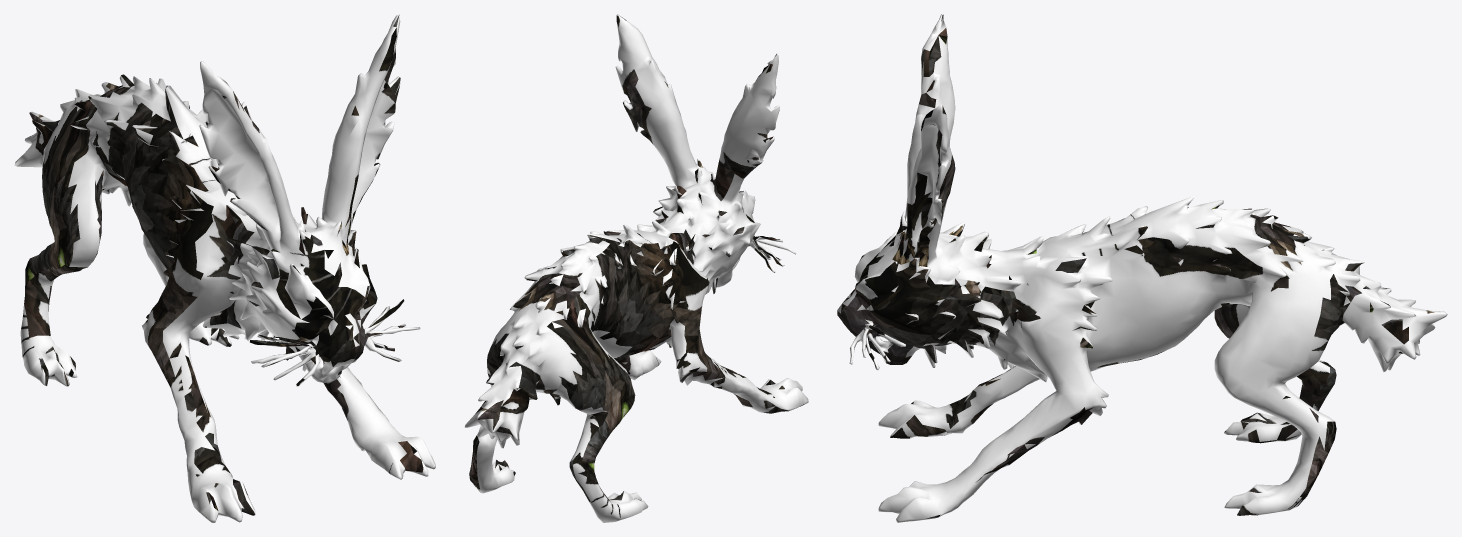
Rendered from dread_hare_basic_10k.fbx.
The picture shows the model from 3 angles, left to right: view 1: azimuth 30°, elevation 25°; view 2: azimuth 150°, elevation 25°; view 3: azimuth 270°, elevation 25°; orthographic projection. The views are drawn at different scales.
Visible parts, largest first — view 1: dread_hare_basic_decimated; view 2: dread_hare_basic_decimated; view 3: dread_hare_basic_decimated.
Part boxes in pixels (bbox=[...]): dread_hare_basic_decimated: bbox=[14, 14, 435, 522]; dread_hare_basic_decimated: bbox=[464, 14, 808, 522]; dread_hare_basic_decimated: bbox=[837, 14, 1447, 522].
Size of the model in its own units: 0.7861 by 1.43 by 1.91.
